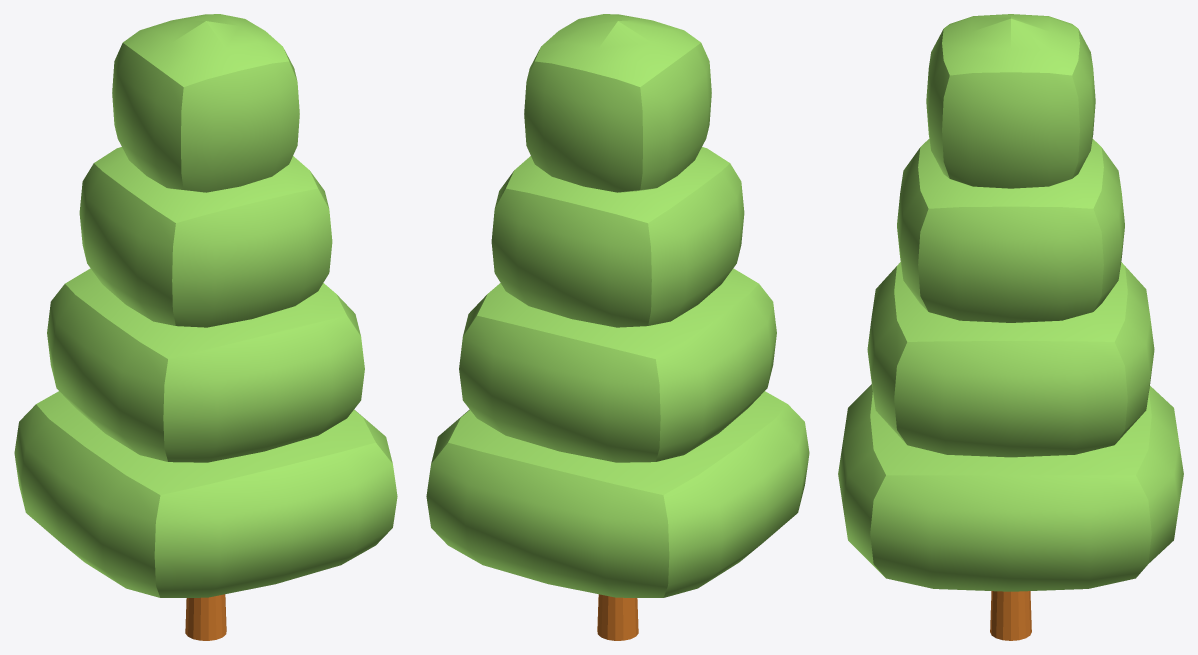
File: Ёлка.fbx
The picture shows the model from 3 angles, left to right: view 1: azimuth 30°, elevation 25°; view 2: azimuth 150°, elevation 25°; view 3: azimuth 270°, elevation 25°; orthographic projection.
Visible parts, largest first — view 1: Cube, Plane.002; view 2: Cube, Plane.002; view 3: Cube, Plane.002.
Part boxes in pixels (x1,y1,x2,y2): Cube: [14, 14, 397, 597]; Plane.002: [185, 594, 226, 640]; Cube: [426, 14, 809, 597]; Plane.002: [597, 594, 638, 640]; Cube: [838, 14, 1183, 591]; Plane.002: [990, 591, 1031, 640].
Size of the model in its own units: 193 by 378 by 193.
